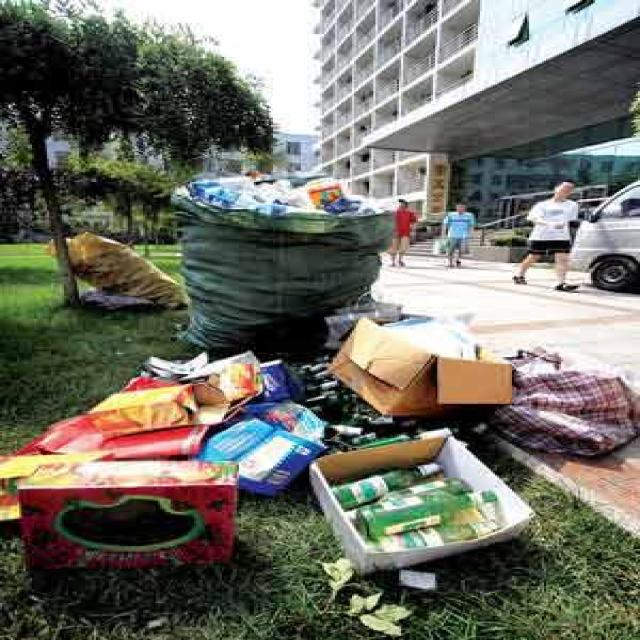garbage: (0, 172, 638, 639)
